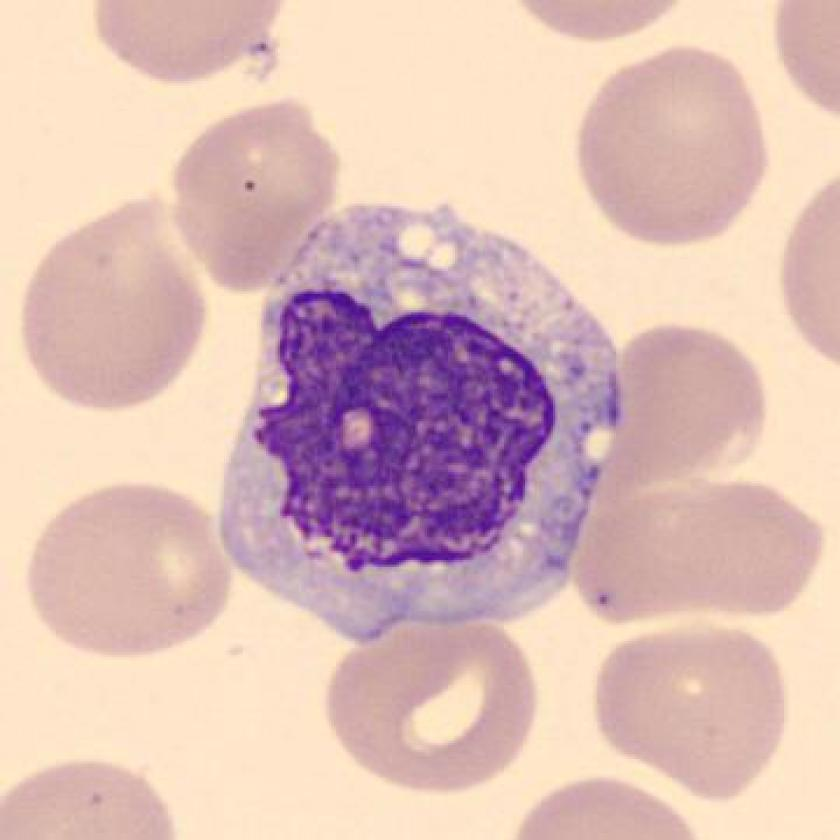monocyte: (197, 186, 643, 665)
